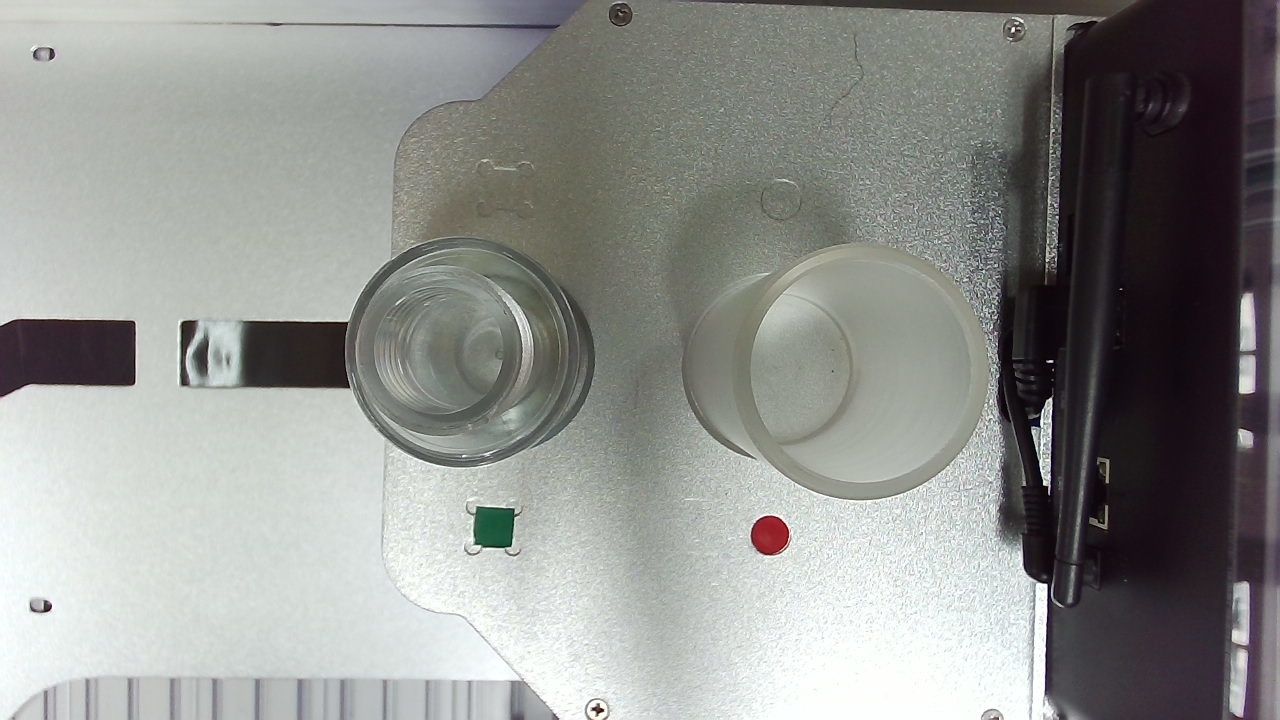XLabel: (626, 142, 694, 211)
YLabel: (1053, 176, 1115, 252)
none: (924, 307, 1231, 633)
transparentempty: (407, 238, 832, 656)
